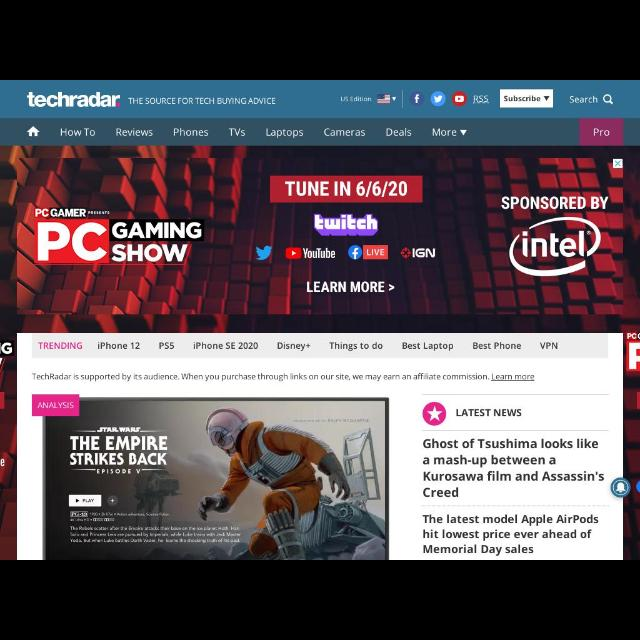backgroundimage: (1, 147, 638, 558)
button: (611, 478, 631, 498), (614, 158, 622, 168)
icon: (26, 126, 40, 138), (602, 94, 614, 106), (615, 482, 627, 493), (459, 128, 467, 136), (544, 95, 550, 101), (615, 161, 621, 167), (392, 96, 396, 102)
iframe: (16, 158, 624, 316)
image: (43, 399, 389, 559), (27, 89, 124, 111), (422, 400, 446, 426), (430, 91, 446, 107), (452, 92, 468, 106), (409, 92, 425, 106), (377, 94, 391, 104)
input: (566, 92, 616, 108)
multitab: (0, 120, 638, 146), (31, 333, 606, 357)
panel: (16, 331, 622, 559)
spinner: (500, 88, 554, 110), (339, 92, 398, 108), (431, 126, 469, 140)
text: (422, 437, 608, 497), (422, 512, 600, 558), (30, 372, 536, 382), (128, 96, 276, 105), (454, 406, 522, 420), (328, 342, 386, 352), (193, 342, 259, 350), (402, 342, 454, 352), (266, 127, 304, 139), (38, 340, 82, 350), (173, 126, 209, 138), (324, 128, 366, 138), (115, 127, 155, 137), (98, 342, 142, 351), (473, 342, 521, 350), (60, 127, 96, 137), (278, 342, 310, 352), (38, 402, 74, 410), (432, 127, 458, 137), (386, 127, 412, 137), (570, 96, 598, 104), (592, 126, 610, 138), (504, 96, 540, 102), (341, 96, 372, 102), (228, 127, 246, 137), (540, 342, 558, 351), (473, 95, 489, 103), (160, 342, 174, 351)
textbutton: (579, 119, 623, 145), (30, 396, 80, 416)
toolbar: (1, 81, 639, 119)
